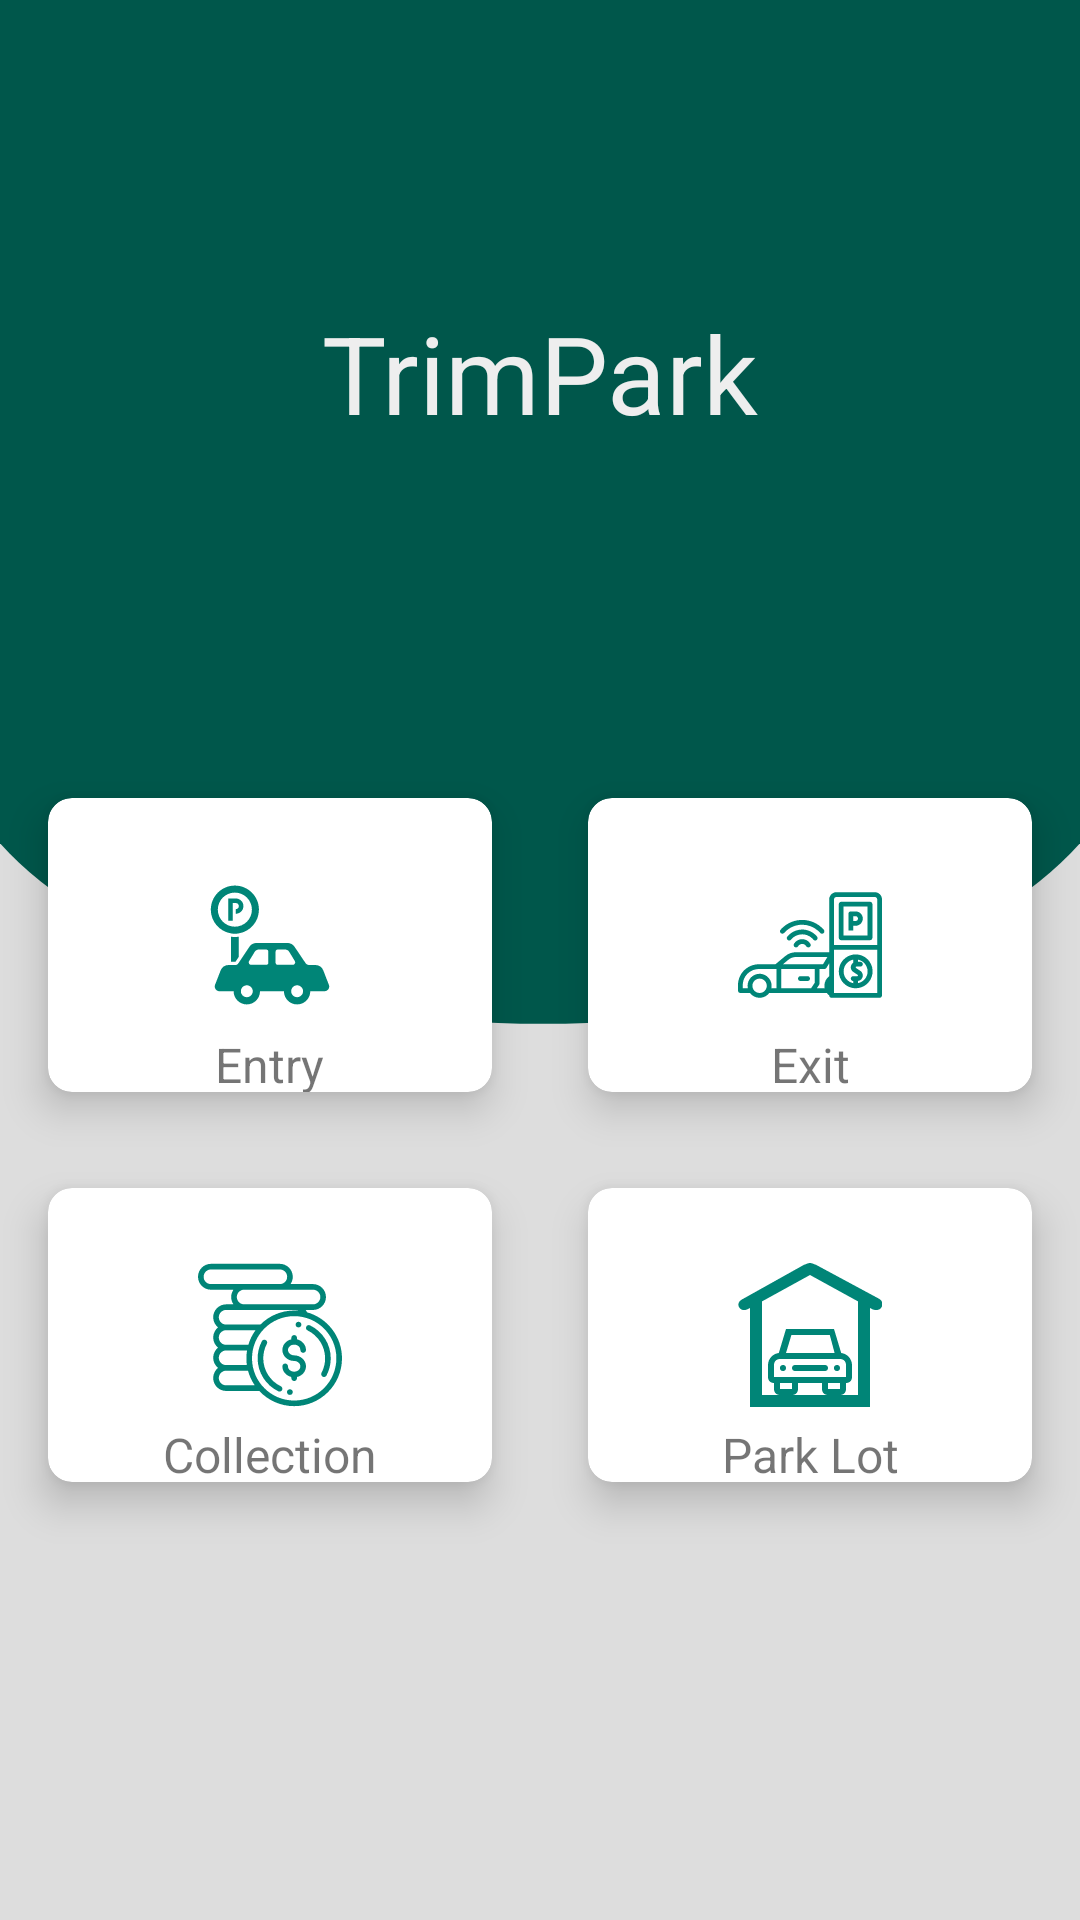

Named icons in this screenshot (1080 x 1920) and their bounding boxes, (x1, y1, x2, y2):
money: (198, 1263, 342, 1407)
